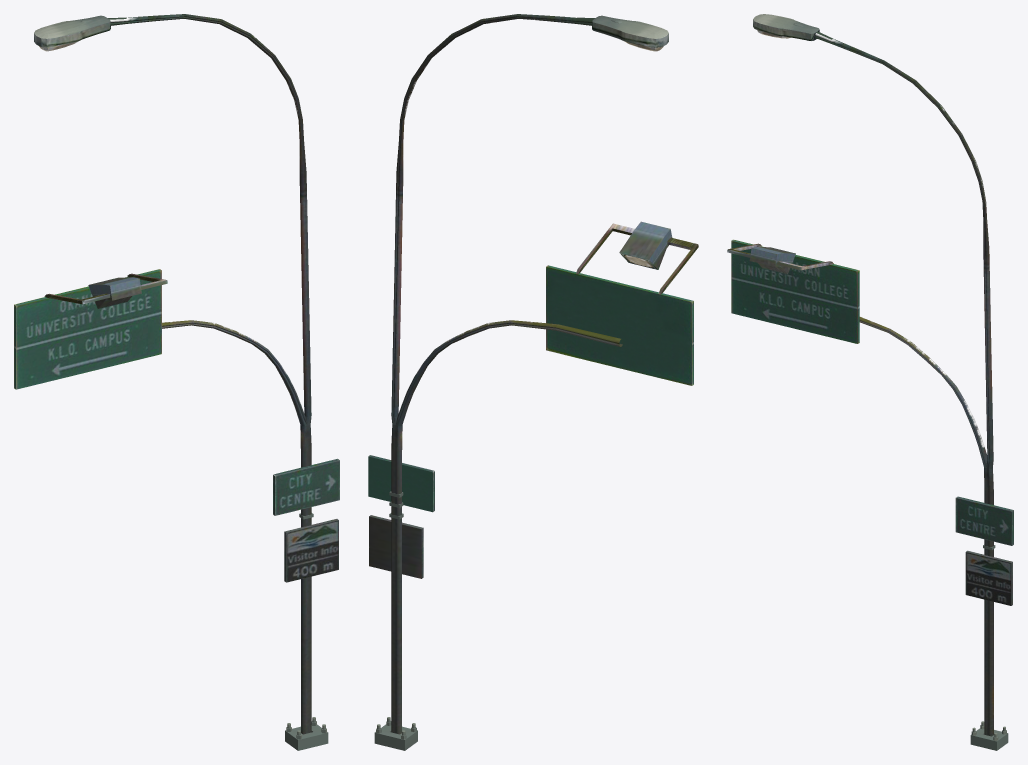
Rendered from lamp.05.withsign.lod1.obj.
The picture shows the model from 3 angles, left to right: view 1: azimuth 30°, elevation 25°; view 2: azimuth 150°, elevation 25°; view 3: azimuth 330°, elevation 25°; orthographic projection. The views are drawn at different scales.
Visible parts, largest first — view 1: lamppanneau01; view 2: lamppanneau01; view 3: lamppanneau01.
Part boxes in pixels (x1=…): lamppanneau01: x1=14, y1=14, x2=339, y2=750; lamppanneau01: x1=368, y1=14, x2=698, y2=750; lamppanneau01: x1=727, y1=14, x2=1013, y2=750.
Size of the model in its own units: 2741 by 6275 by 712.
1 material, 1 textured.
